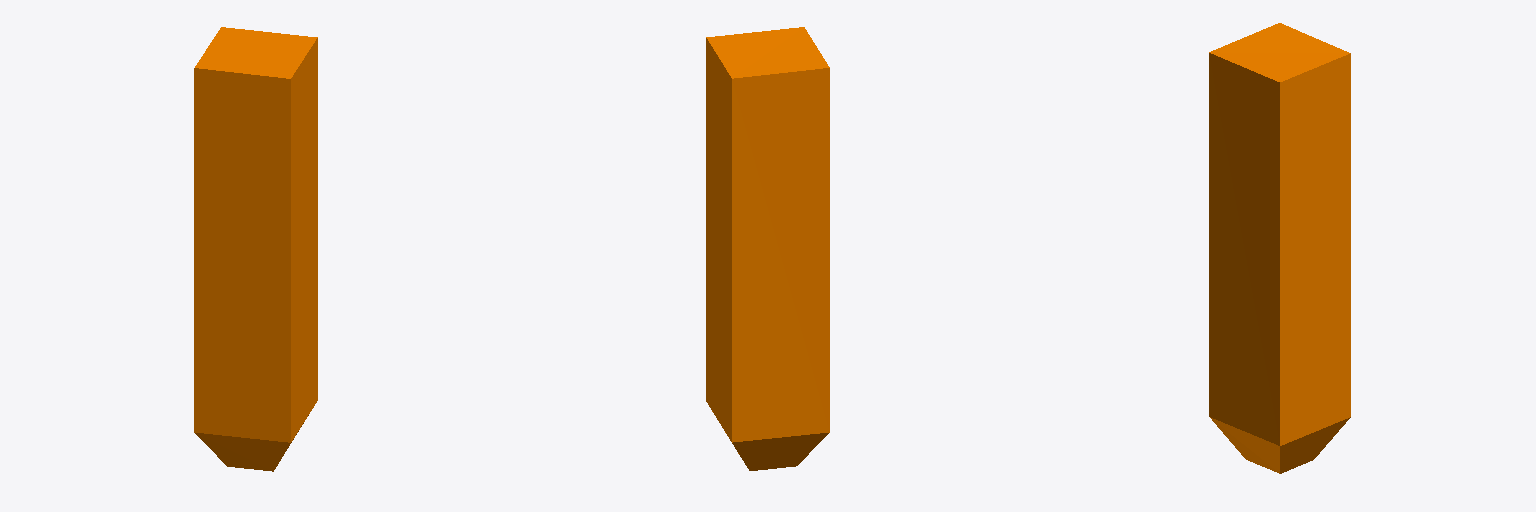
3 views of the same model, side by side, from view 1: azimuth 30°, elevation 25°; view 2: azimuth 150°, elevation 25°; view 3: azimuth 270°, elevation 25° (orthographic).
Bounding box in the file's own units: 0.2508 × 0.7894 × 0.2503.
Materials: 1 (1 with a texture image).